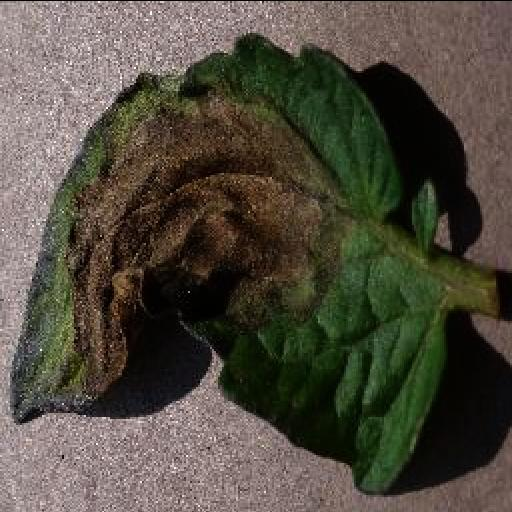disease_tomato: (2, 34, 448, 494)
